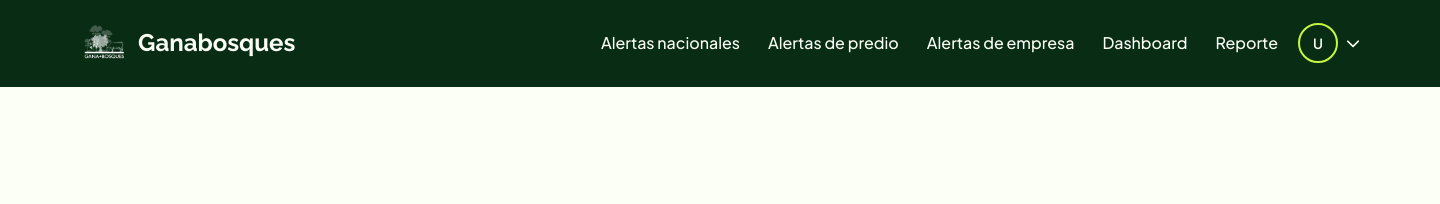
Scenario: Header › user dropdown › falls back to 'Usuario' when nothing identifies the account
The width and height of the screenshot is (1440, 204).
Click the button "U". click: (1329, 43)
box: [1298,23,1360,63]
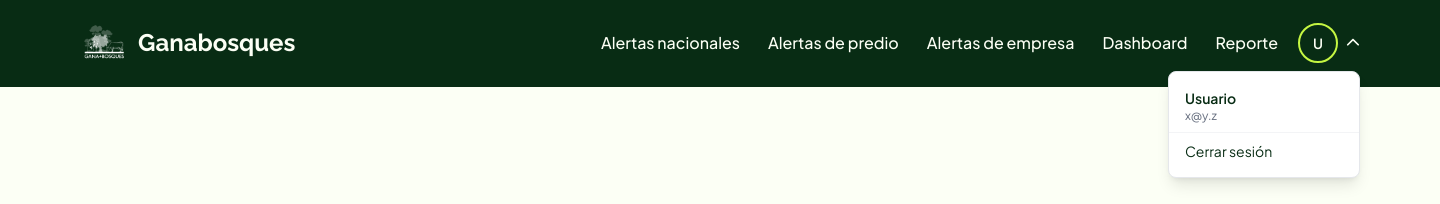
Now the text "Usuario" is shown, box [1185,89,1236,107]
